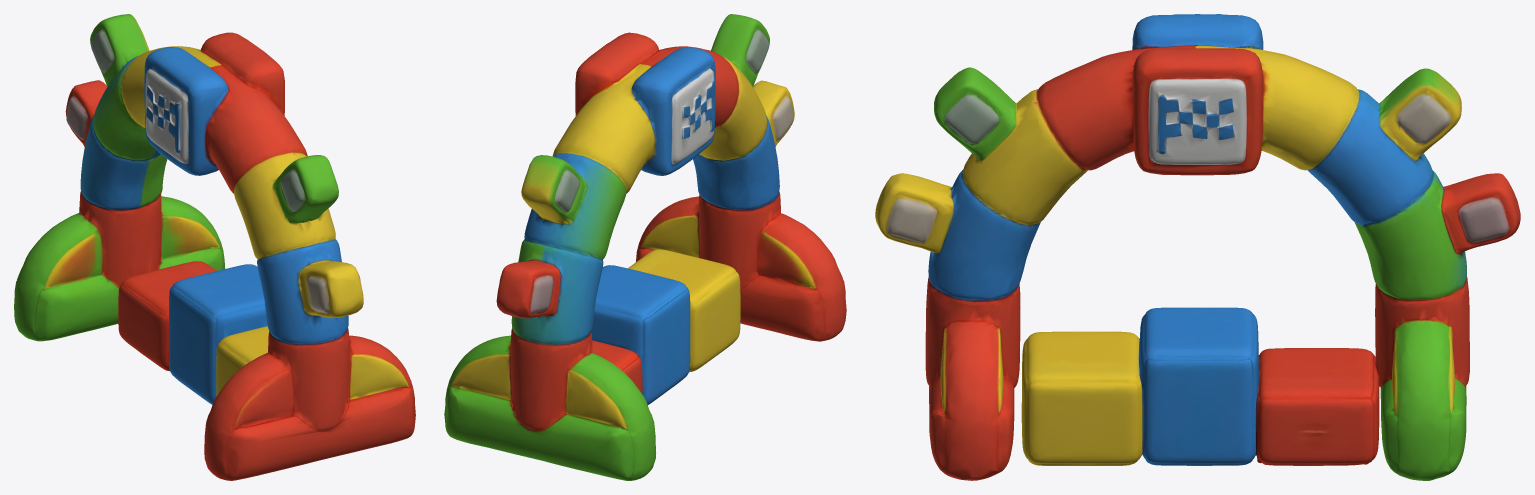
File: finish_gate.glb
3 renders of one model, left to right at view 1: azimuth 30°, elevation 25°; view 2: azimuth 150°, elevation 25°; view 3: azimuth 270°, elevation 25°, orthographic. The views are drawn at different scales.
Visible parts, largest first — view 1: tripo_node_85b8f6ed-b136-4e17-a534-739699017171; view 2: tripo_node_85b8f6ed-b136-4e17-a534-739699017171; view 3: tripo_node_85b8f6ed-b136-4e17-a534-739699017171.
Boxes of the visible parts, x1,y1,x2,y2 form: tripo_node_85b8f6ed-b136-4e17-a534-739699017171: (14, 14, 415, 480); tripo_node_85b8f6ed-b136-4e17-a534-739699017171: (444, 14, 846, 480); tripo_node_85b8f6ed-b136-4e17-a534-739699017171: (875, 14, 1520, 480).
Size of the model in its own units: 0.3742 by 0.5999 by 0.8818.
Materials: 1 (1 with a texture image).
